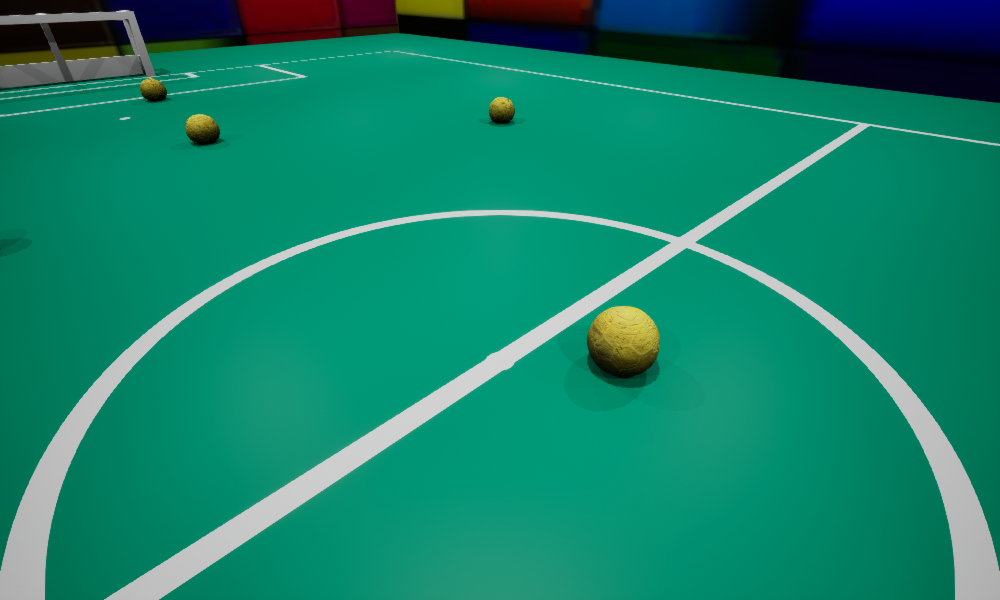b: (587, 306, 659, 376), (185, 114, 219, 142), (489, 97, 514, 123), (140, 78, 166, 99)
g: (0, 10, 155, 87)
